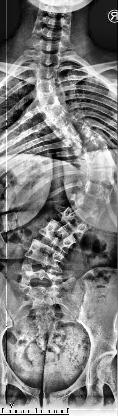Vertebrae: (24, 240, 62, 265), (44, 225, 76, 253), (20, 269, 64, 285), (62, 210, 90, 234), (83, 182, 113, 204), (72, 198, 102, 218), (78, 135, 106, 156), (36, 62, 60, 82), (84, 150, 112, 167), (90, 167, 116, 185), (71, 130, 89, 152), (42, 104, 68, 119), (37, 90, 61, 106), (52, 109, 70, 130), (60, 121, 78, 141), (36, 80, 58, 92)
